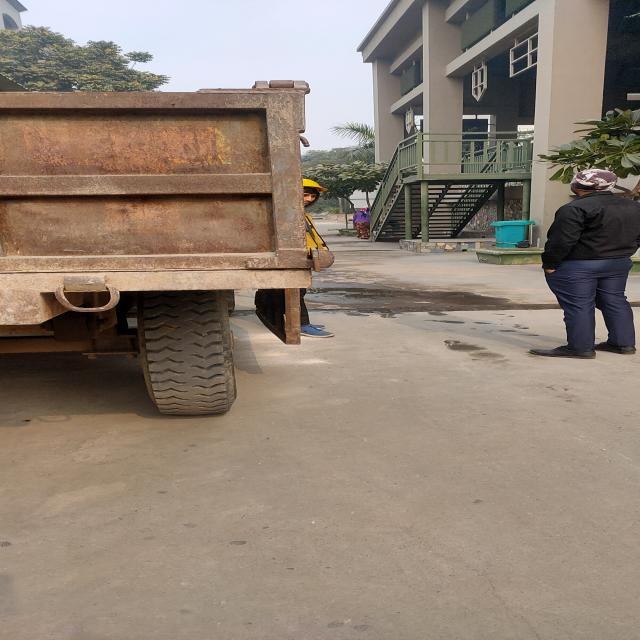unsafe: (540, 170, 640, 359), (353, 204, 374, 237)
